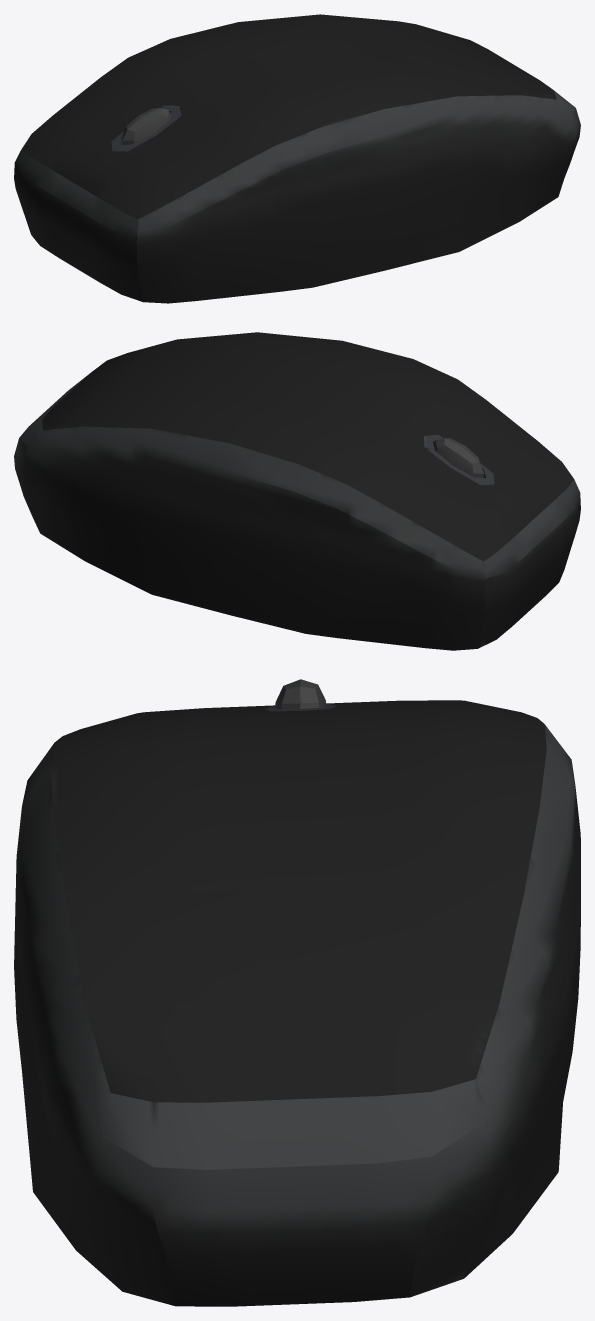
The model's file is ScrivaniaLelloMouse1.gltf.
The picture shows the model from 3 angles, top to bottom: view 1: azimuth 30°, elevation 25°; view 2: azimuth 150°, elevation 25°; view 3: azimuth 270°, elevation 25°; orthographic projection. The views are drawn at different scales.
Visible parts, largest first — view 1: Lello Mouse Tappetino Verde; view 2: Lello Mouse Tappetino Verde; view 3: Lello Mouse Tappetino Verde.
Part boxes in pixels (x1=…): Lello Mouse Tappetino Verde: x1=14, y1=14, x2=580, y2=303; Lello Mouse Tappetino Verde: x1=14, y1=332, x2=580, y2=650; Lello Mouse Tappetino Verde: x1=14, y1=679, x2=580, y2=1306.
Size of the model in its own units: 0.0904 by 0.0299 by 0.0478.
Materials: 1 (1 with a texture image).
